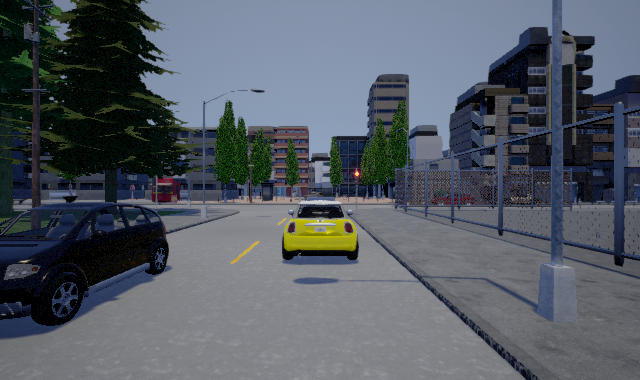traffic_light: (355, 169, 359, 188)
vehicle: (1, 202, 169, 326), (282, 197, 359, 260)
